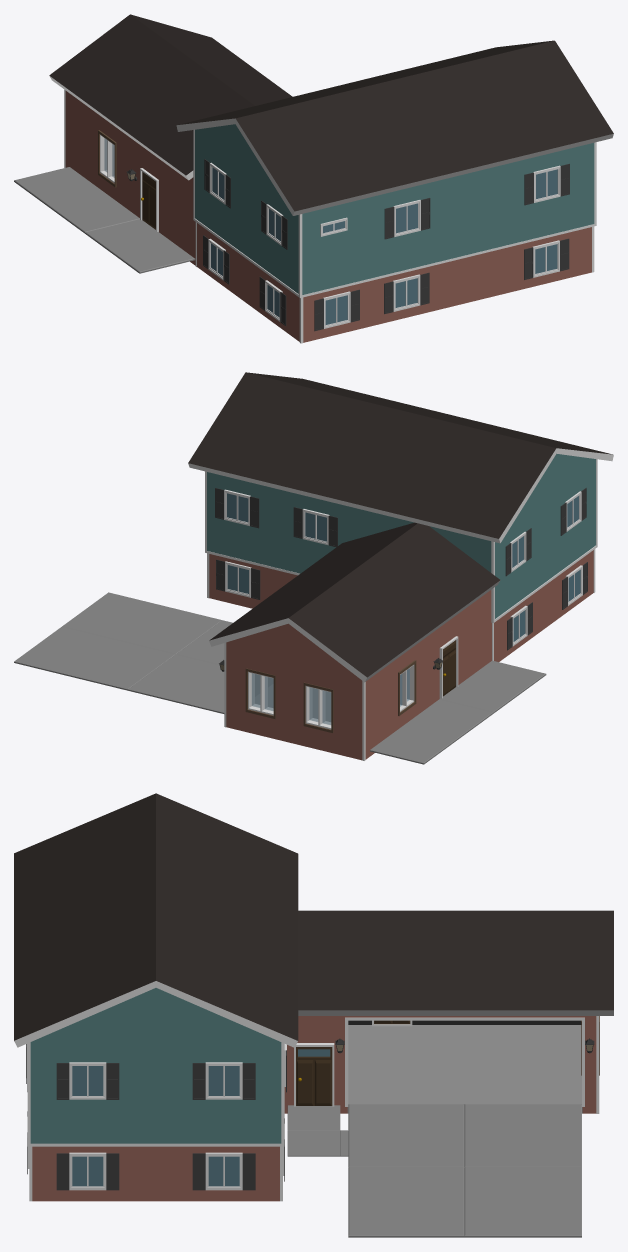
Rendered from House_Blue.fbx.
3 renders of one model, top to bottom at view 1: azimuth 30°, elevation 25°; view 2: azimuth 150°, elevation 25°; view 3: azimuth 270°, elevation 25°, orthographic. The views are drawn at different scales.
Visible parts, largest first — view 1: House_Blue; view 2: House_Blue; view 3: House_Blue.
Part boxes in pixels (x1,y1,x2,y2): House_Blue: (14,14,613,343); House_Blue: (14,372,613,764); House_Blue: (14,793,613,1237).
Size of the model in its own units: 63.8 by 27.36 by 65.15.
